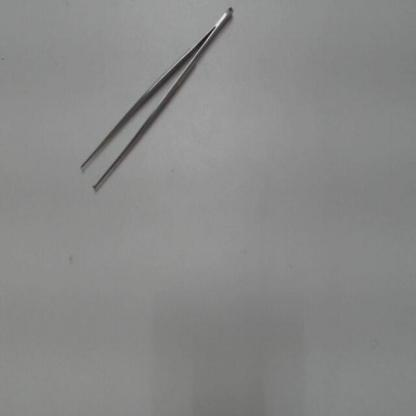Gillies Toothed Dissector: (71, 4, 238, 201)
